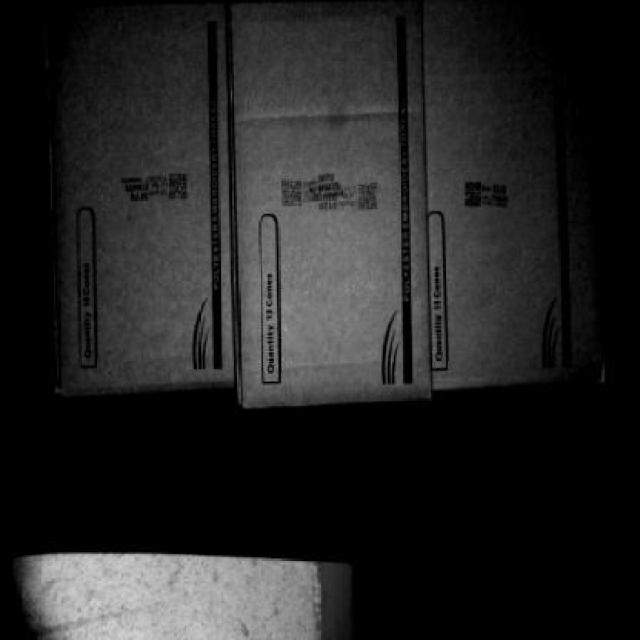cardboxes: (231, 8, 431, 408), (42, 3, 236, 388), (428, 2, 614, 390)
